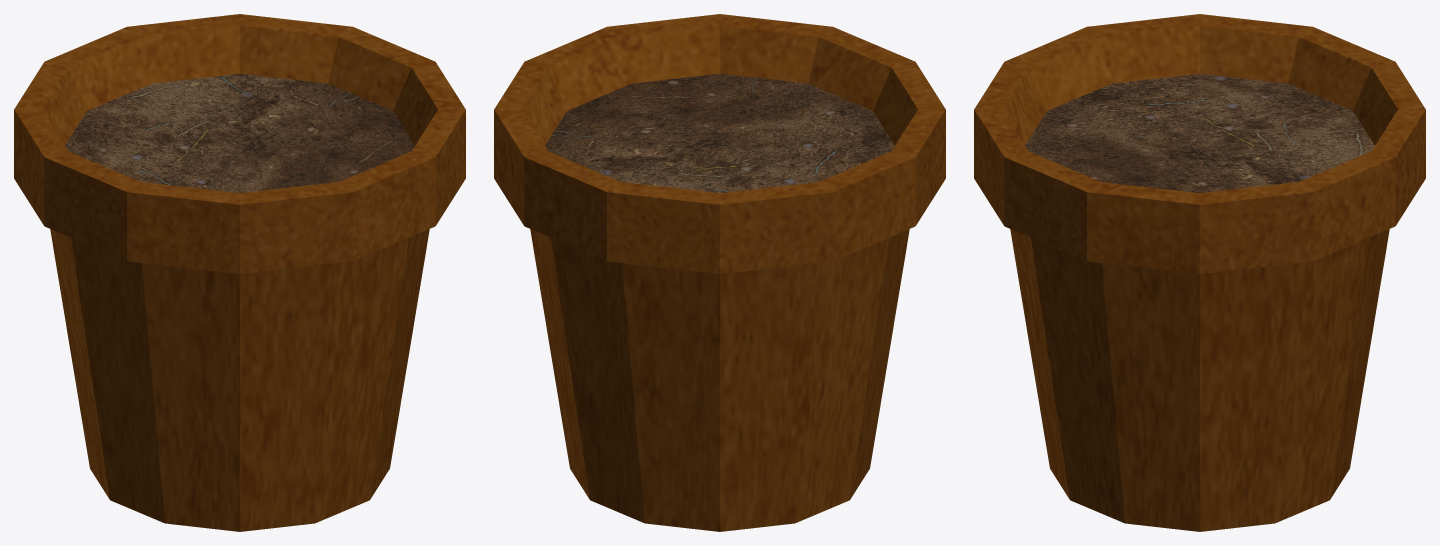
Rendered from pot.fbx.
3 views of the same model, side by side, from view 1: azimuth 30°, elevation 25°; view 2: azimuth 150°, elevation 25°; view 3: azimuth 270°, elevation 25° (orthographic).
Visible parts, largest first — view 1: pot; view 2: pot; view 3: pot.
Boxes of the visible parts, box(x1,y1,x2,y2) form: pot: box(14, 14, 465, 531); pot: box(494, 14, 945, 531); pot: box(974, 14, 1425, 531).
Bounding box in the file's own units: 22.8 × 20 × 22.8.
Materials: 1 (1 with a texture image).
